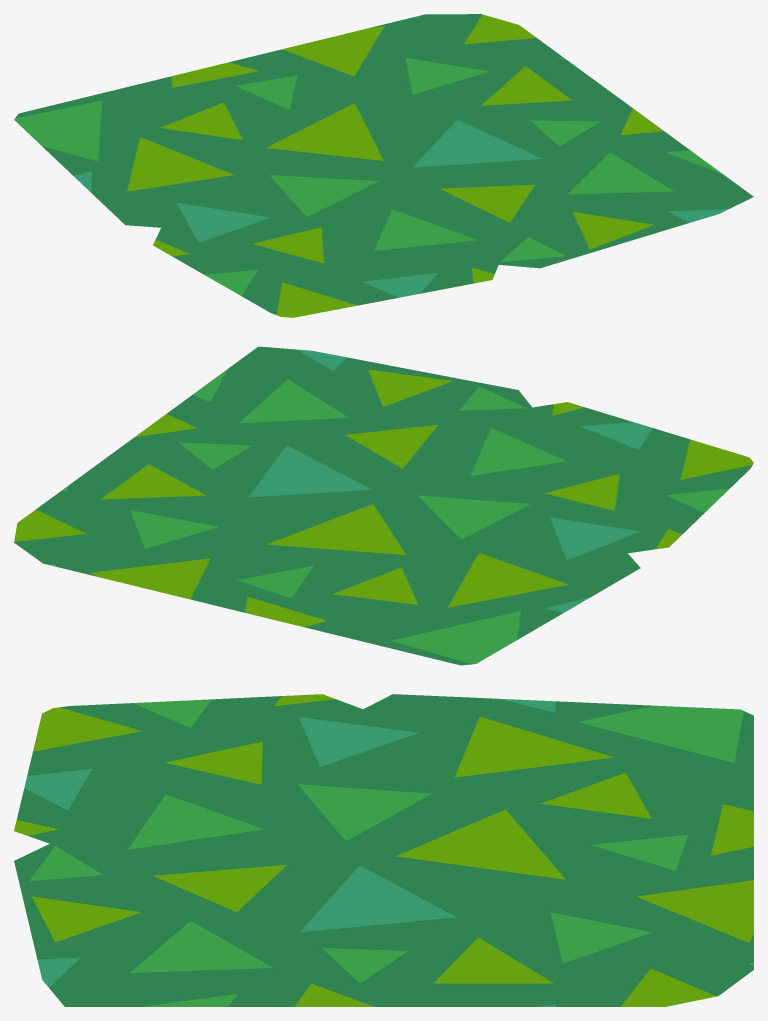
The model's file is Grass Corner Outer.fbx.
3 views of the same model, one above another, from view 1: azimuth 30°, elevation 25°; view 2: azimuth 150°, elevation 25°; view 3: azimuth 270°, elevation 25° (orthographic). The views are drawn at different scales.
Parts seen in each view (by area): view 1: Grass.Corner.Outer; view 2: Grass.Corner.Outer; view 3: Grass.Corner.Outer.
Part boxes in pixels (box(x1,y1,x2,y2)): Grass.Corner.Outer: box(14, 14, 753, 317); Grass.Corner.Outer: box(14, 346, 753, 665); Grass.Corner.Outer: box(14, 694, 753, 1006).
Size of the model in its own units: 190 by 0 by 190.
